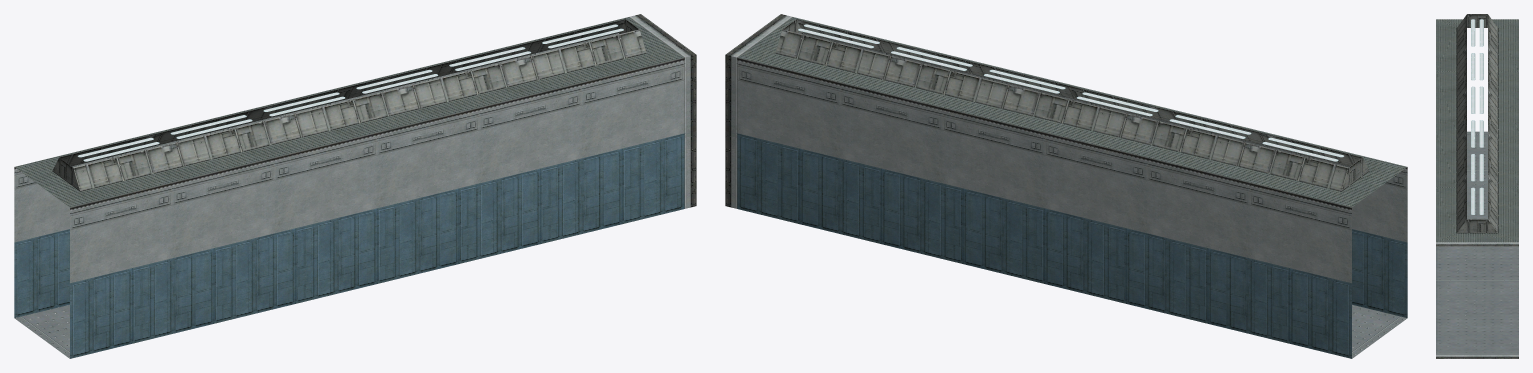
The model's file is ply_nboo_hospital_s01_r1_entry_mesh_r1.fbx.
3 renders of one model, left to right at view 1: azimuth 30°, elevation 25°; view 2: azimuth 150°, elevation 25°; view 3: azimuth 270°, elevation 25°, orthographic. The views are drawn at different scales.
Visible parts, largest first — view 1: mesh_node; view 2: mesh_node; view 3: mesh_node.
Boxes of the visible parts, <box> form: mesh_node: <box>14,14,696,358</box>; mesh_node: <box>725,14,1407,358</box>; mesh_node: <box>1436,14,1518,358</box>.
Size of the model in its own units: 13 by 3.38 by 2.
